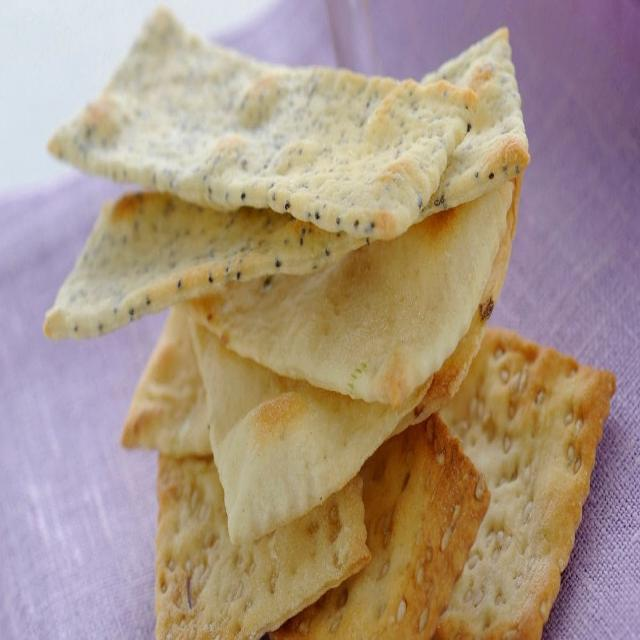Cracker: (62, 6, 463, 234)
